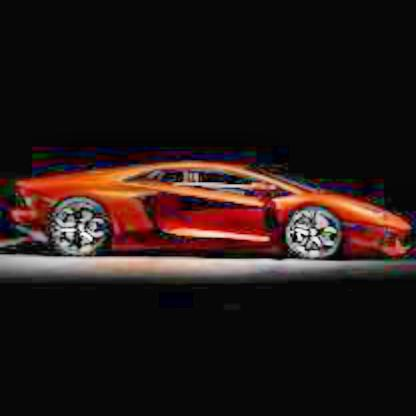Lamborghini Aventador Coupe 2012: (3, 146, 416, 269)
